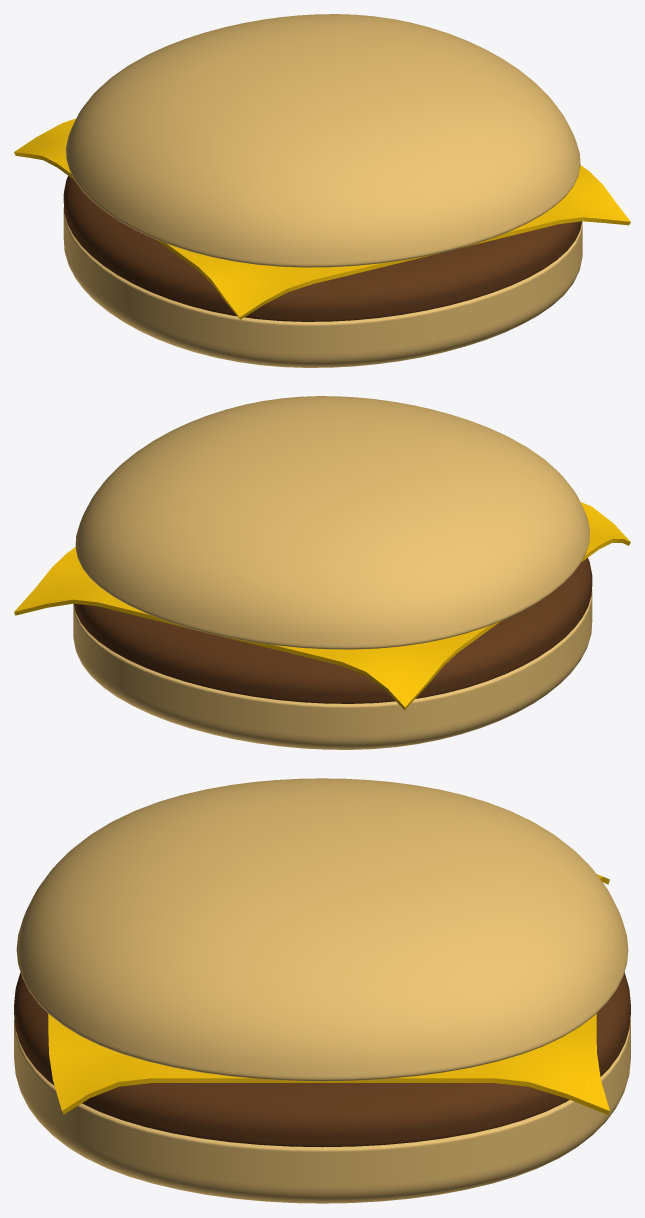
Rendered from hamburger.glb.
3 renders of one model, top to bottom at view 1: azimuth 30°, elevation 25°; view 2: azimuth 150°, elevation 25°; view 3: azimuth 270°, elevation 25°, orthographic. The views are drawn at different scales.
Visible parts, largest first — view 1: Cube.002, Cube, Cube.001, Plane; view 2: Cube.002, Cube, Cube.001, Plane; view 3: Cube.002, Cube, Cube.001, Plane.
Part boxes in pixels (x1,y1,x2,y2): Cube.002: [66, 14, 580, 267]; Cube: [63, 208, 582, 367]; Cube.001: [63, 176, 581, 321]; Plane: [14, 118, 630, 319]; Cube.002: [75, 396, 589, 649]; Cube: [73, 589, 592, 749]; Cube.001: [74, 558, 592, 703]; Plane: [14, 502, 630, 710]; Cube.002: [16, 778, 628, 1081]; Cube: [14, 1018, 630, 1203]; Cube.001: [14, 972, 630, 1147]; Plane: [48, 874, 609, 1114].
Bounding box in the file's own units: 9.17 × 4.34 × 9.17.
